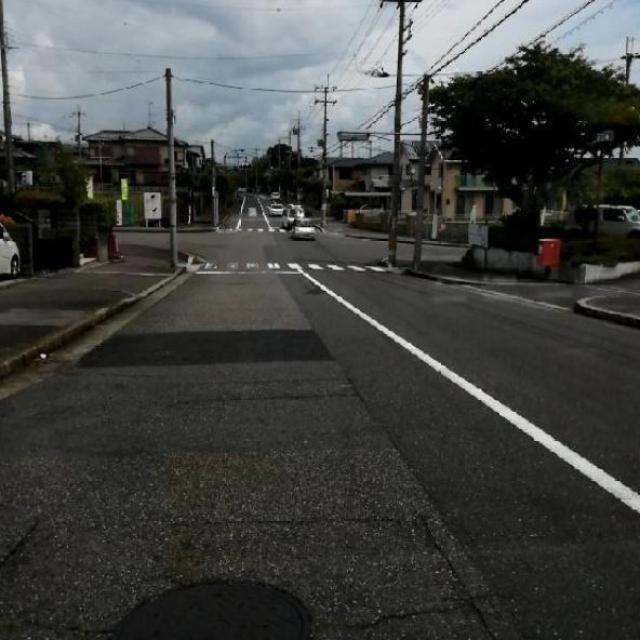Sambungan: (281, 264, 640, 639), (89, 326, 331, 365)
